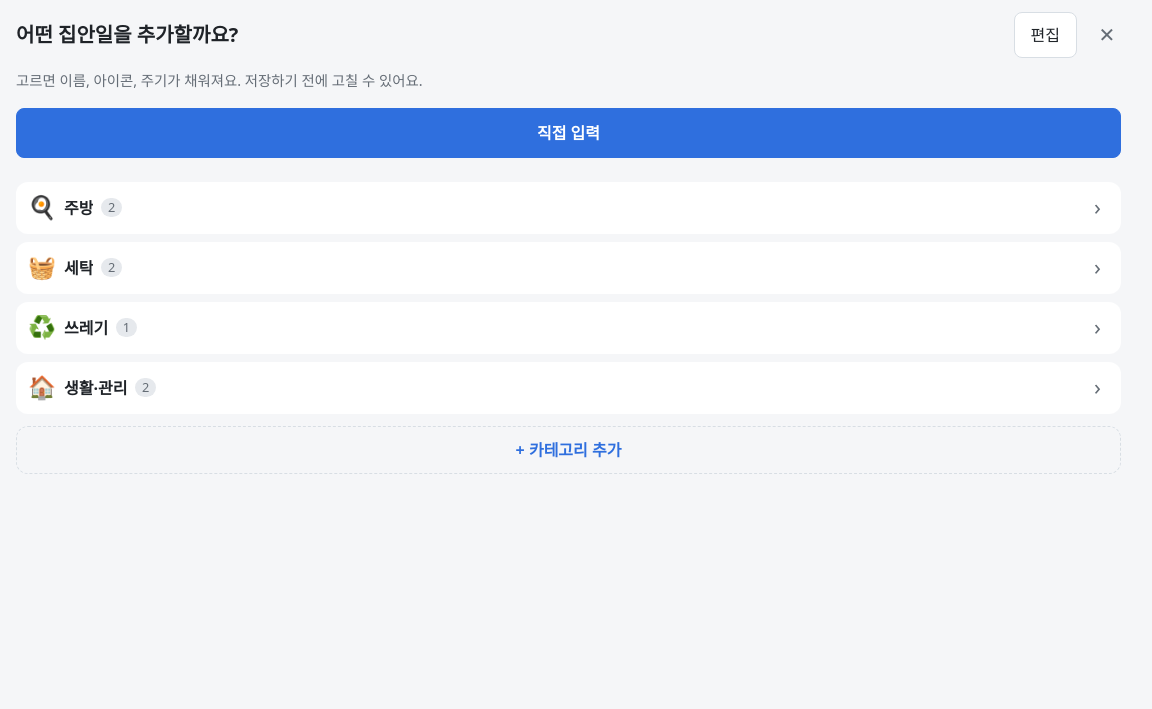
항목 추가 › 서버가 422로 거절하면 입력 칸을 확인하라고 안내한다
The image size is (1152, 709).
Click the button "🍳 주방 2 ›".
click(42, 207)  # box [16,182,1113,234]
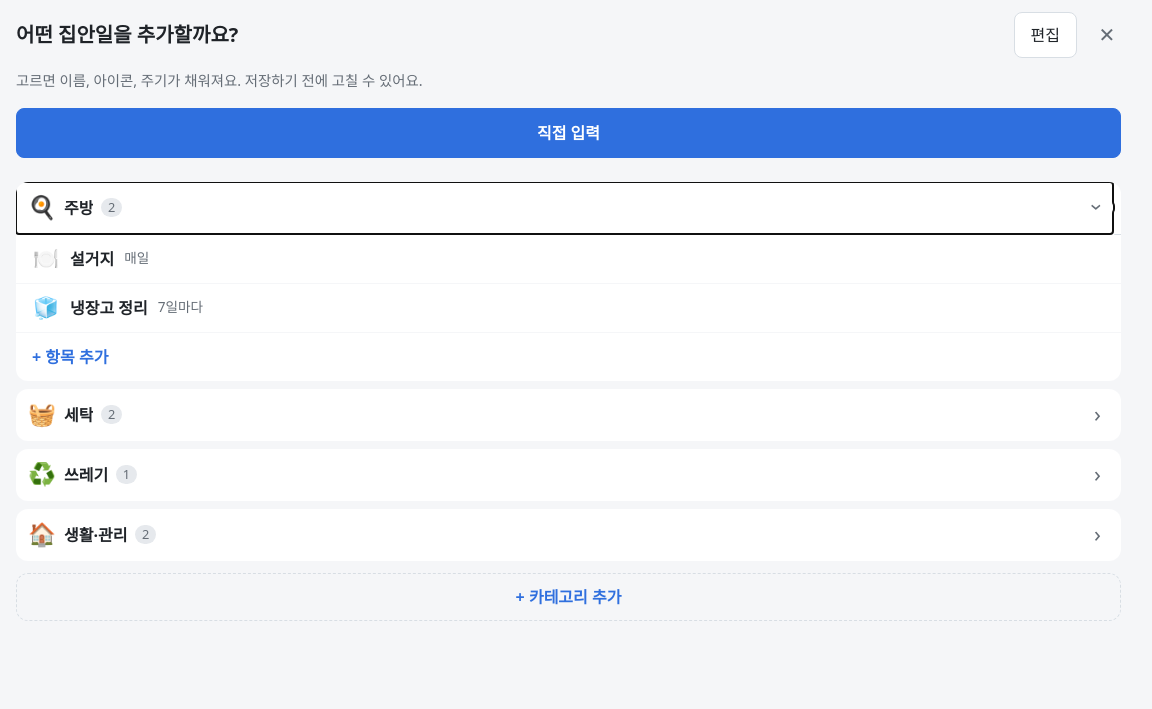
Expected: the button "🍳 주방 2 ›" is expanded, [16,182,1113,234]
Click the button "+ 항목 추가".
click(70, 357)  # box [16,333,1121,381]
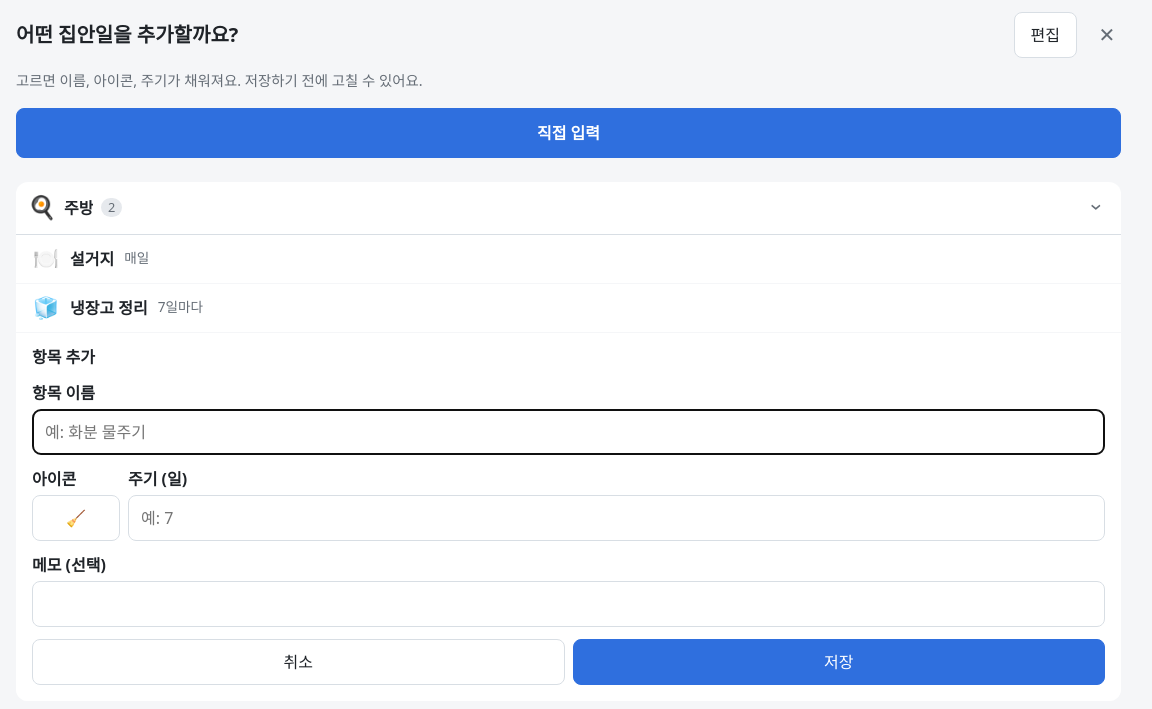
Type "오븐 청소" into the field labelled "항목 이름".
click(568, 432); type("오븐 청소")  # box [32,409,1105,455]
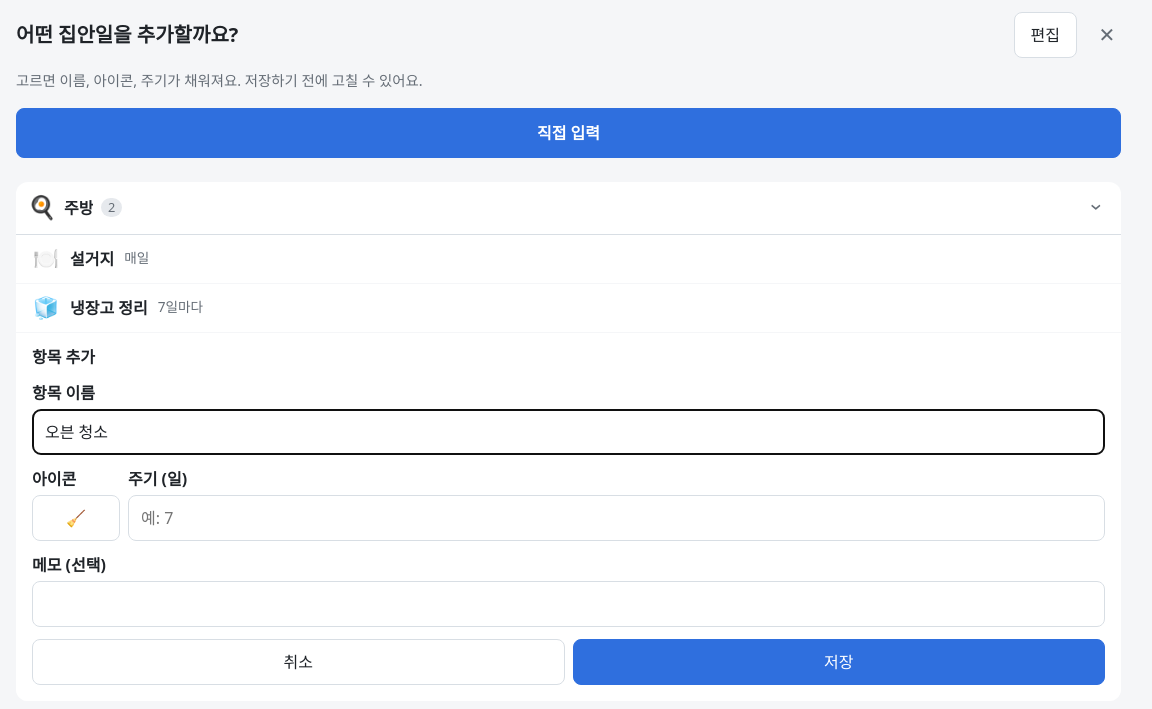
Type "30" into the number field labelled "주기 (일)".
click(616, 518); type("30")  # box [128,495,1105,541]
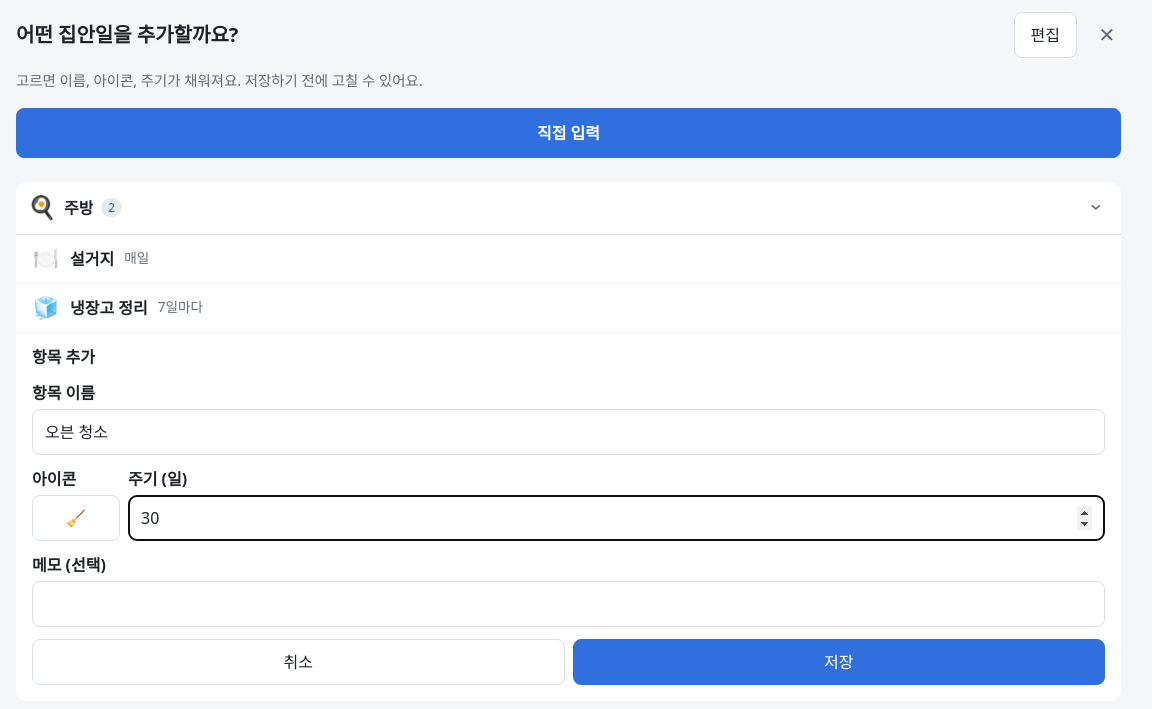
Click the button "저장".
click(839, 662)  # box [572,639,1105,685]
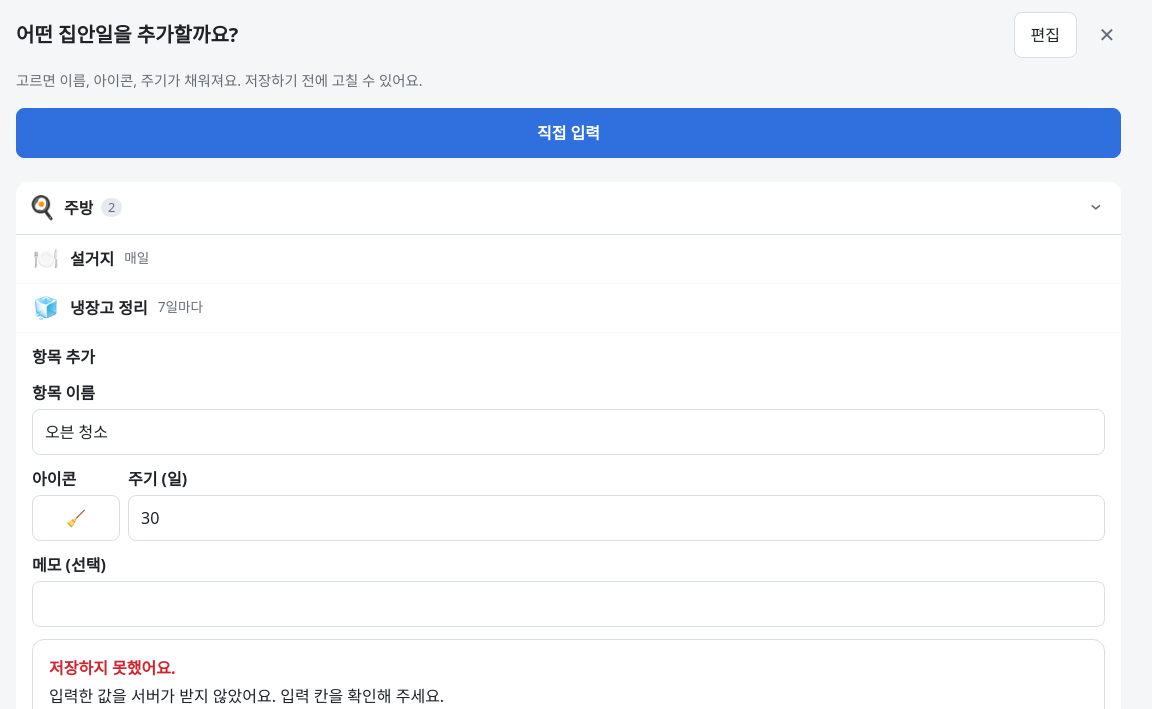
Expected: the text with class "error-notice__title" reads "저장하지 못했어요.", [49,657,176,679]
Expected: the text with class "error-notice__hint" reads "입력한 값을 서버가 받지 않았어요. 입력 칸을 확인해 주세요.", [49,685,444,707]
